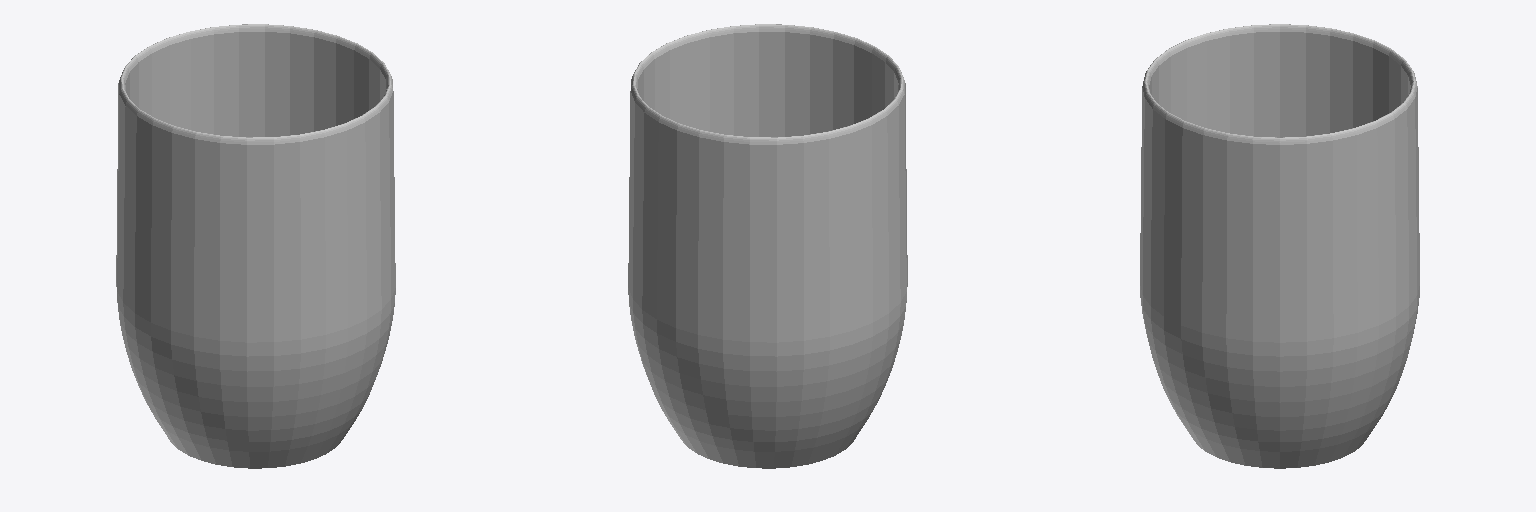
File: Glass.obj
The picture shows the model from 3 angles: view 1: azimuth 30°, elevation 25°; view 2: azimuth 150°, elevation 25°; view 3: azimuth 270°, elevation 25°; orthographic projection.
Parts seen in each view (by area): view 1: Circle; view 2: Circle; view 3: Circle.
Part boxes in pixels (x1,y1,x2,y2): Circle: (116, 24, 395, 468); Circle: (628, 24, 907, 468); Circle: (1140, 24, 1419, 468).
Bounding box in the file's own units: 3.14 × 4.34 × 3.14.